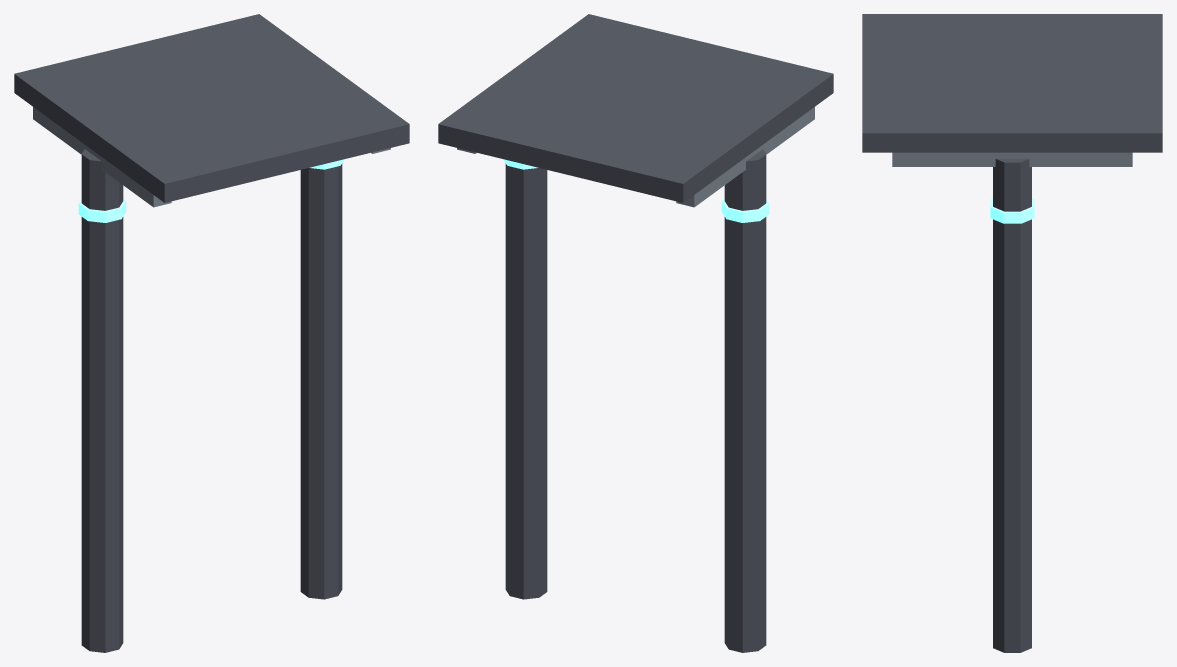
File: ponte_agua.glb
3 views of the same model, side by side, from view 1: azimuth 30°, elevation 25°; view 2: azimuth 150°, elevation 25°; view 3: azimuth 270°, elevation 25° (orthographic).
Parts seen in each view (by area): view 1: ponte_agua; view 2: ponte_agua; view 3: ponte_agua.
Boxes of the visible parts, bbox=[...] form: ponte_agua: bbox=[14, 14, 409, 652]; ponte_agua: bbox=[438, 14, 833, 652]; ponte_agua: bbox=[862, 14, 1162, 652].
Size of the model in its own units: 0.9878 by 1.9 by 1.
